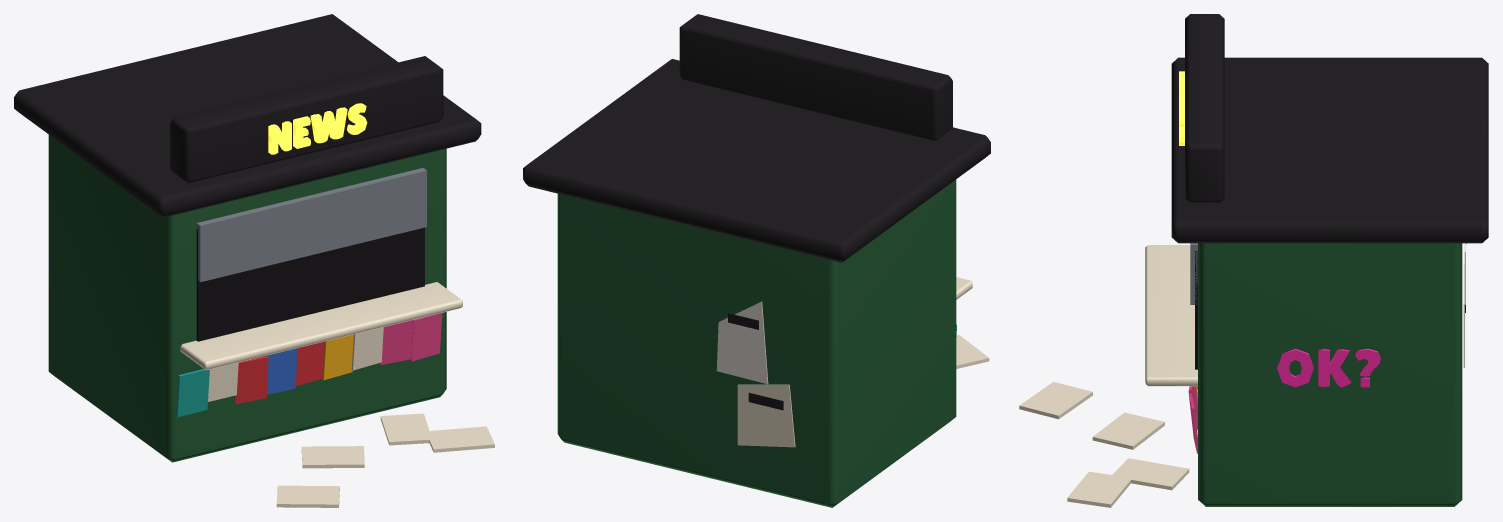
File: city_newsstand.glb
3 renders of one model, left to right at view 1: azimuth 30°, elevation 25°; view 2: azimuth 150°, elevation 25°; view 3: azimuth 270°, elevation 25°, orthographic. The views are drawn at different scales.
Visible parts, largest first — view 1: Newsstand; view 2: Newsstand; view 3: Newsstand.
Boxes of the visible parts, left/top/right/bottom form: Newsstand: left=14, top=14, right=494, bottom=507; Newsstand: left=523, top=14, right=990, bottom=507; Newsstand: left=1019, top=14, right=1488, bottom=507.
Size of the model in its own units: 3 by 3 by 3.55.
